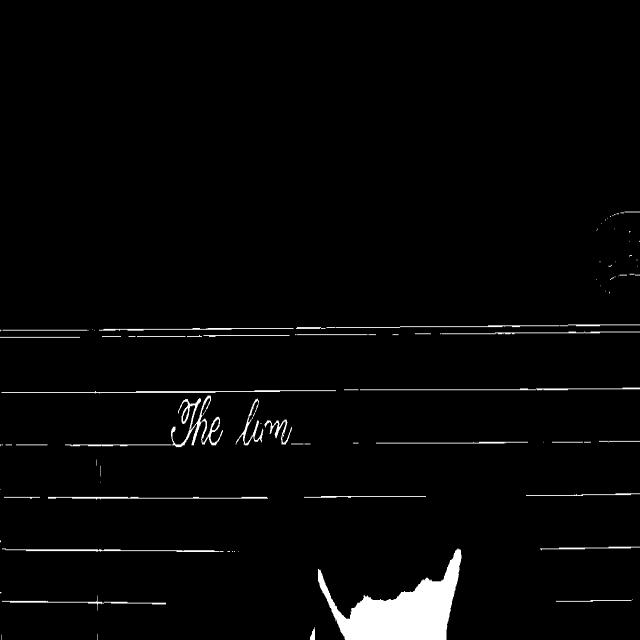hand: (318, 549, 461, 639), (310, 629, 314, 639)
noise: (0, 324, 640, 338), (0, 386, 640, 394), (0, 542, 239, 554), (350, 438, 640, 446), (0, 596, 166, 609), (2, 494, 269, 502), (303, 491, 427, 499), (556, 596, 634, 608), (524, 491, 640, 498), (540, 545, 640, 552), (62, 443, 175, 446), (0, 443, 52, 446)
not-noise: (171, 395, 224, 446), (235, 398, 292, 445)
page-marker: (596, 212, 640, 286)
